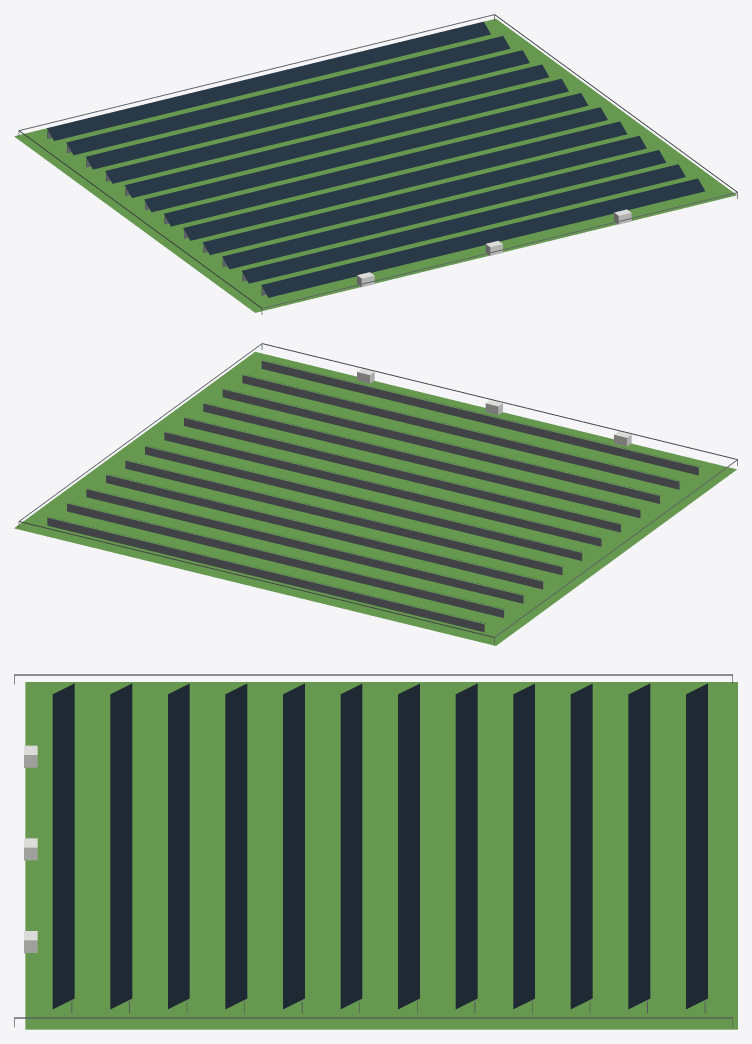
File: centrale_solaire.glb
The picture shows the model from 3 angles, top to bottom: view 1: azimuth 30°, elevation 25°; view 2: azimuth 150°, elevation 25°; view 3: azimuth 270°, elevation 25°; orthographic projection. The views are drawn at different scales.
Parts seen in each view (by area): view 1: centrale_solaire; view 2: centrale_solaire; view 3: centrale_solaire.
Boxes of the visible parts, <box> form: centrale_solaire: <box>14,14,737,314</box>; centrale_solaire: <box>14,343,737,645</box>; centrale_solaire: <box>14,674,737,1029</box>.
Size of the model in its own units: 150 by 3 by 132.
Materials: 1 (1 with a texture image).
